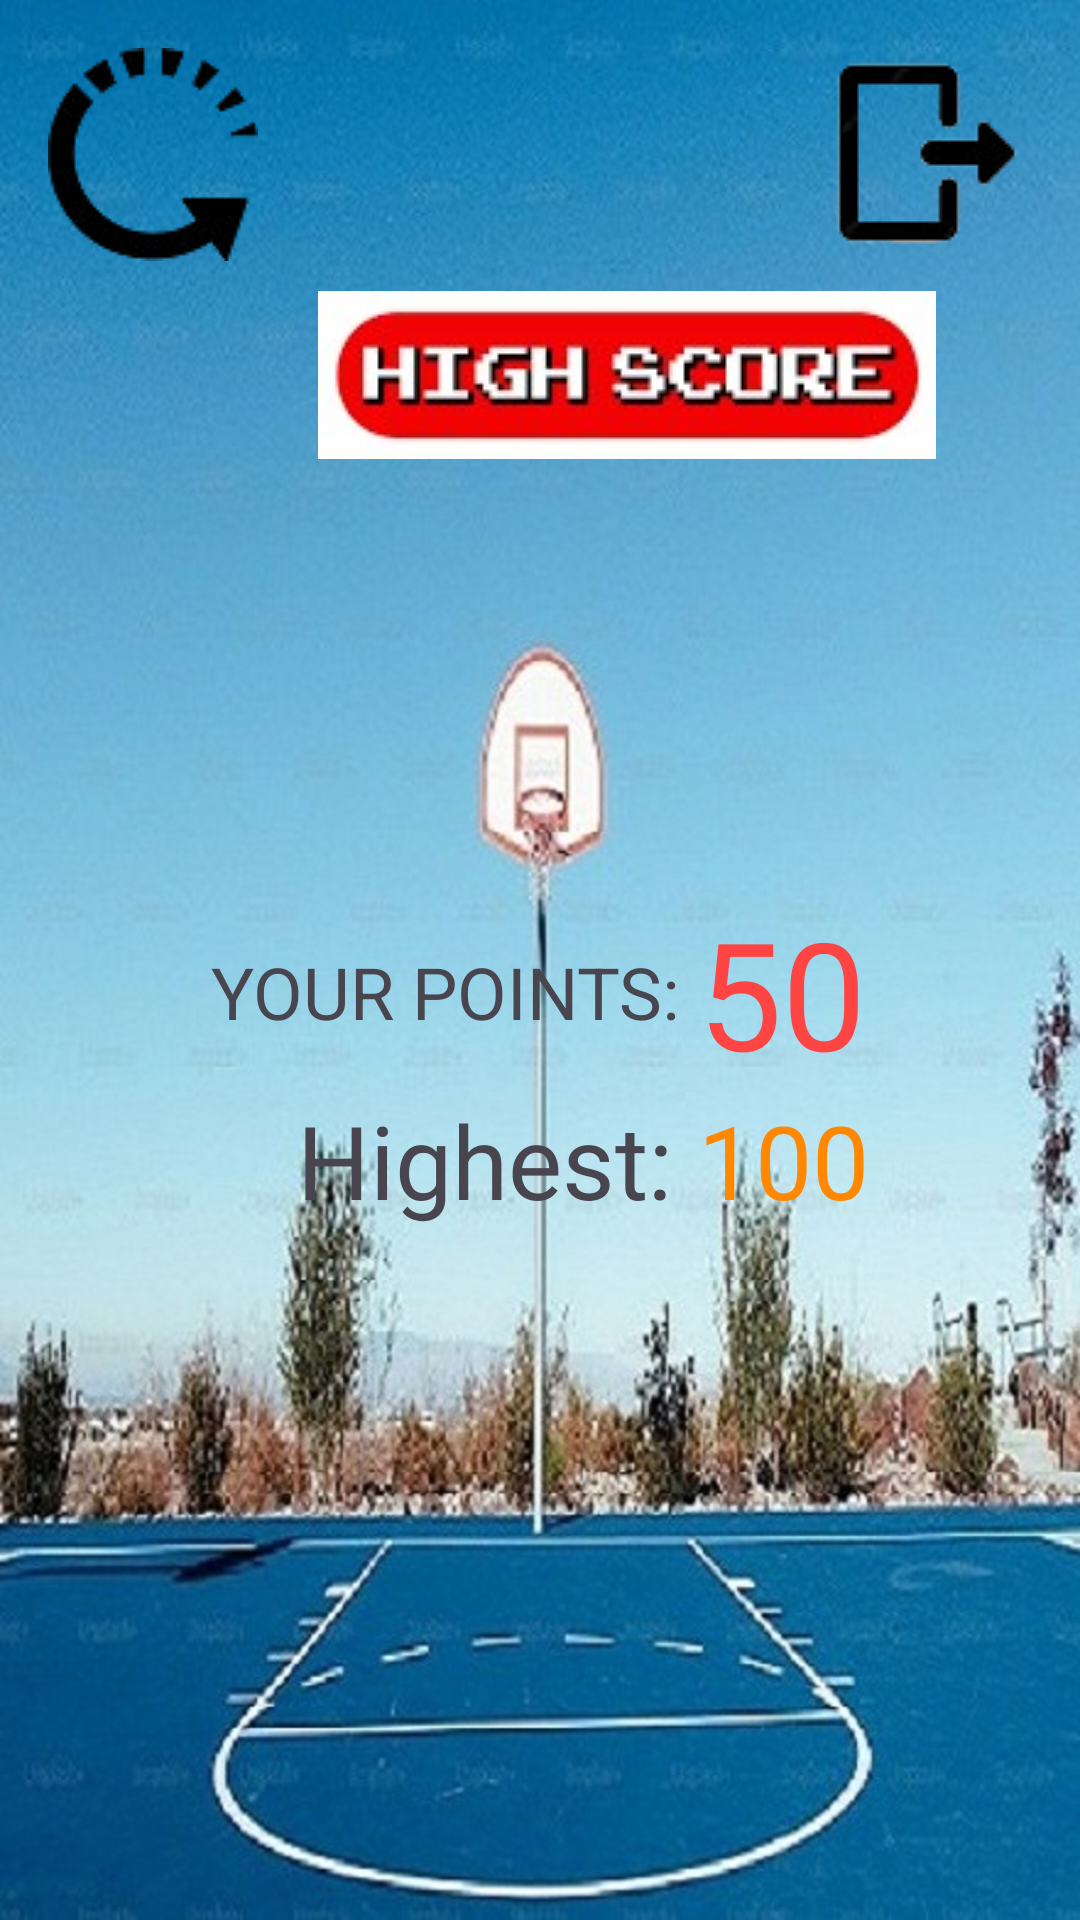

Icons on this 1080x1920 Android screen, each with the point to tap as (x=x, y=y):
exit: (x=927, y=153)
restart: (x=153, y=154)
